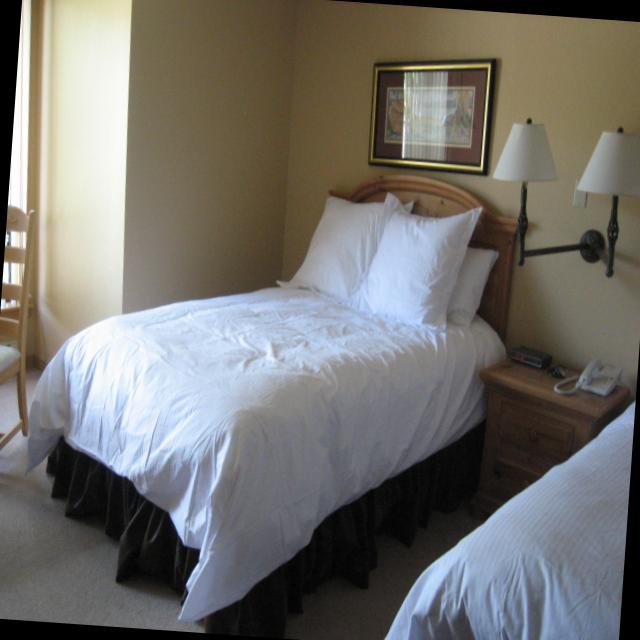bed -occluded-: (24, 174, 517, 636)
bed frame: (385, 399, 632, 640)
clock: (505, 340, 553, 373)
lamp crop: (492, 106, 640, 277)
night table: (475, 341, 628, 516)
painting crop: (367, 57, 494, 177)
telephone booth: (576, 356, 621, 396)
